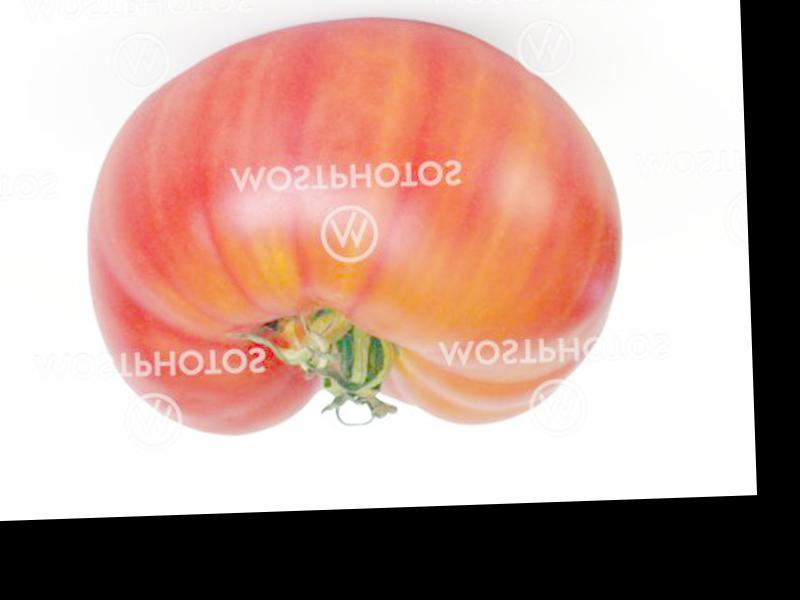Tomato: (82, 11, 628, 440)
